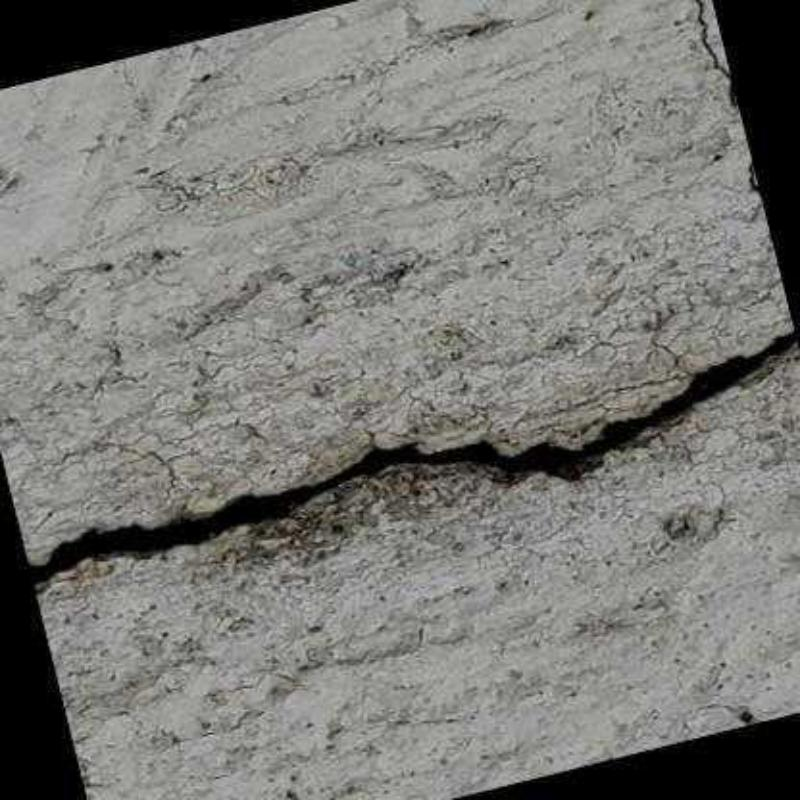crack: (27, 327, 797, 583), (696, 0, 762, 190)
